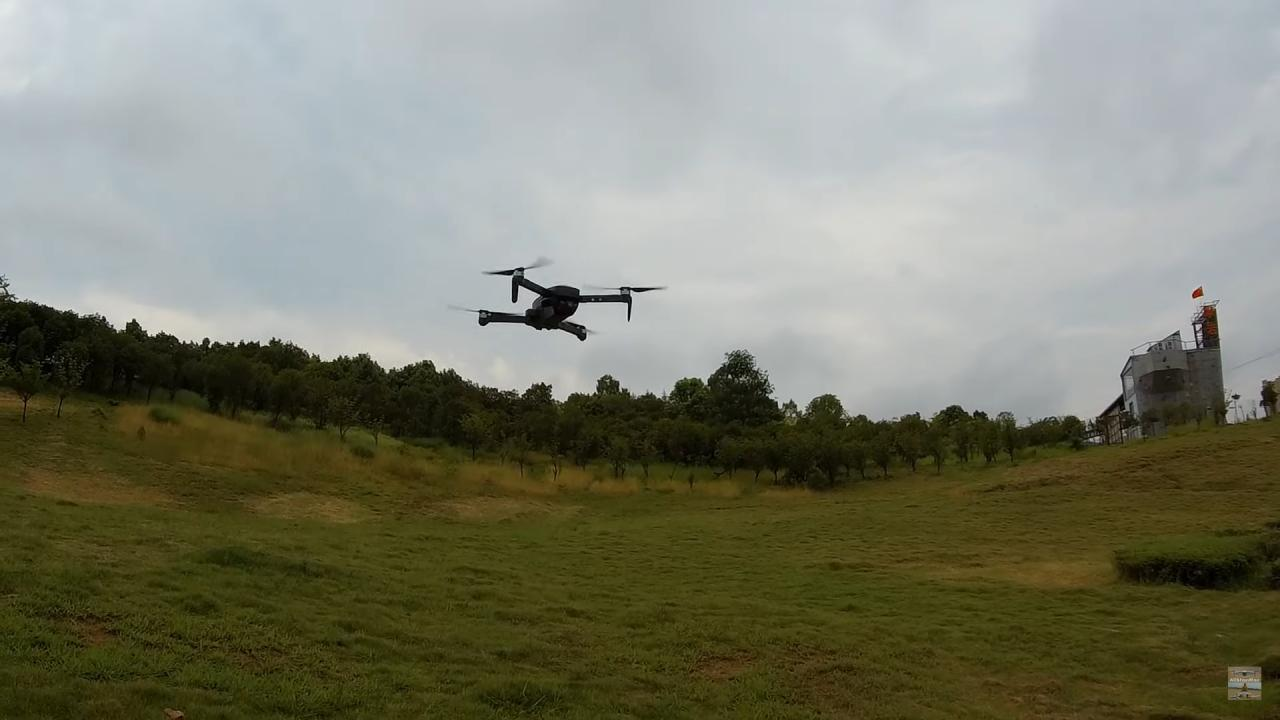Drone: (427, 242, 676, 354)
